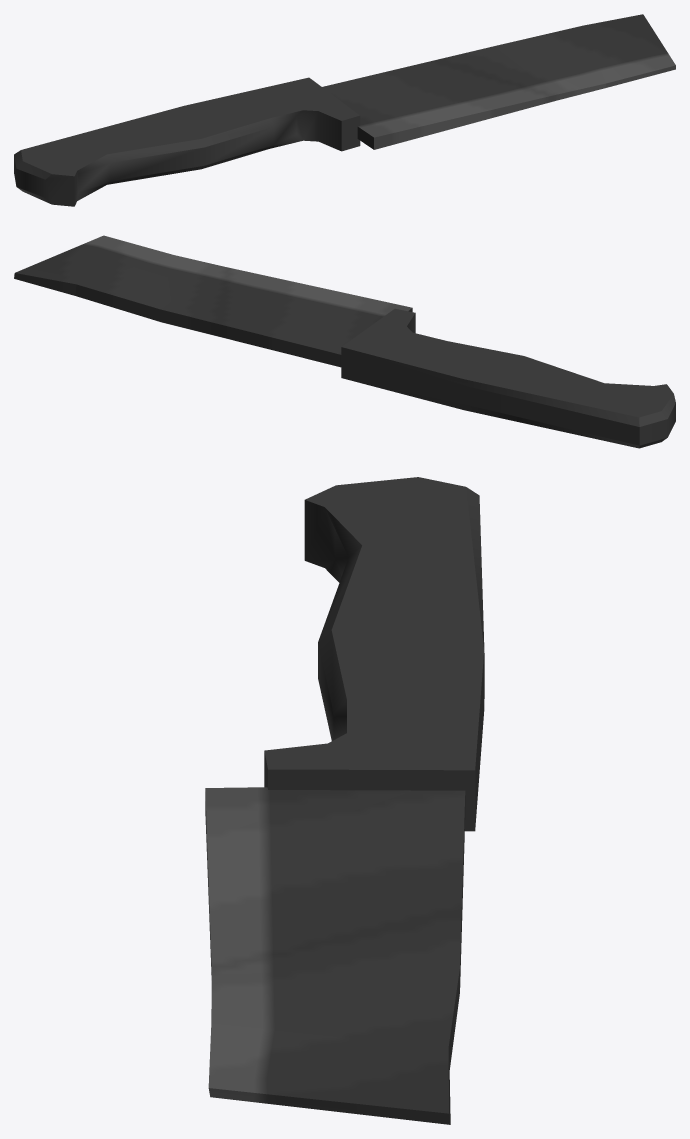
Rendered from PChefKnife02.fbx.
3 views of the same model, one above another, from view 1: azimuth 30°, elevation 25°; view 2: azimuth 150°, elevation 25°; view 3: azimuth 270°, elevation 25° (orthographic). The views are drawn at different scales.
Parts seen in each view (by area): view 1: Pknife2; view 2: Pknife2; view 3: Pknife2.
Part boxes in pixels (<box>): Pknife2: <box>14,14,675,206</box>; Pknife2: <box>14,235,675,448</box>; Pknife2: <box>205,477,484,1124</box>.
Bounding box in the file's own units: 52.18 × 2.39 × 9.94.
